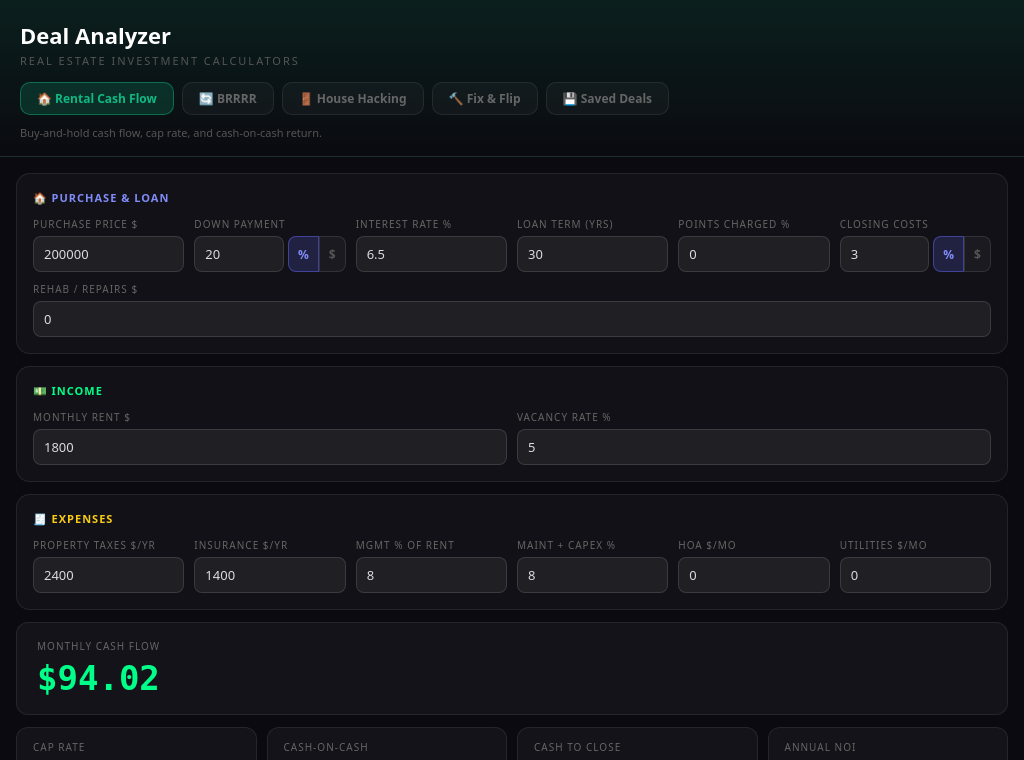
Scenario: points and saved deals › saved deals tab shows an empty state before anything is saved
This screenshot has width=1024, height=760.
Click the button "💾 Saved Deals": (607, 98) [546,82,669,115]
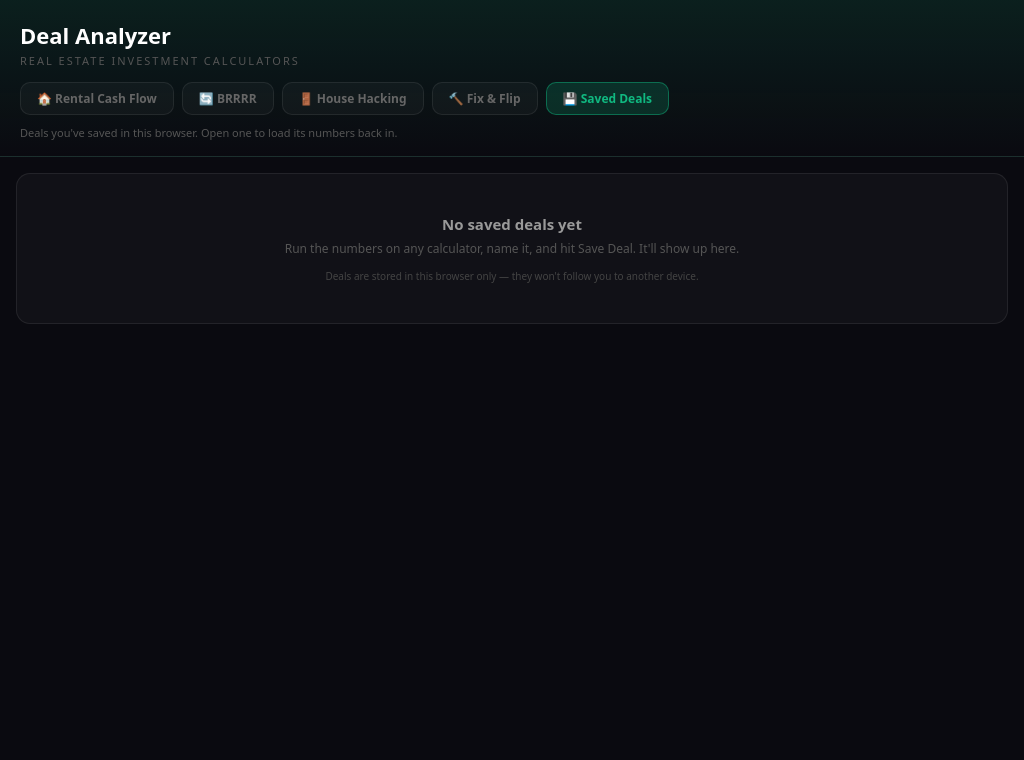
Check: the text "No saved deals yet" is shown, box [442,214,582,234]
